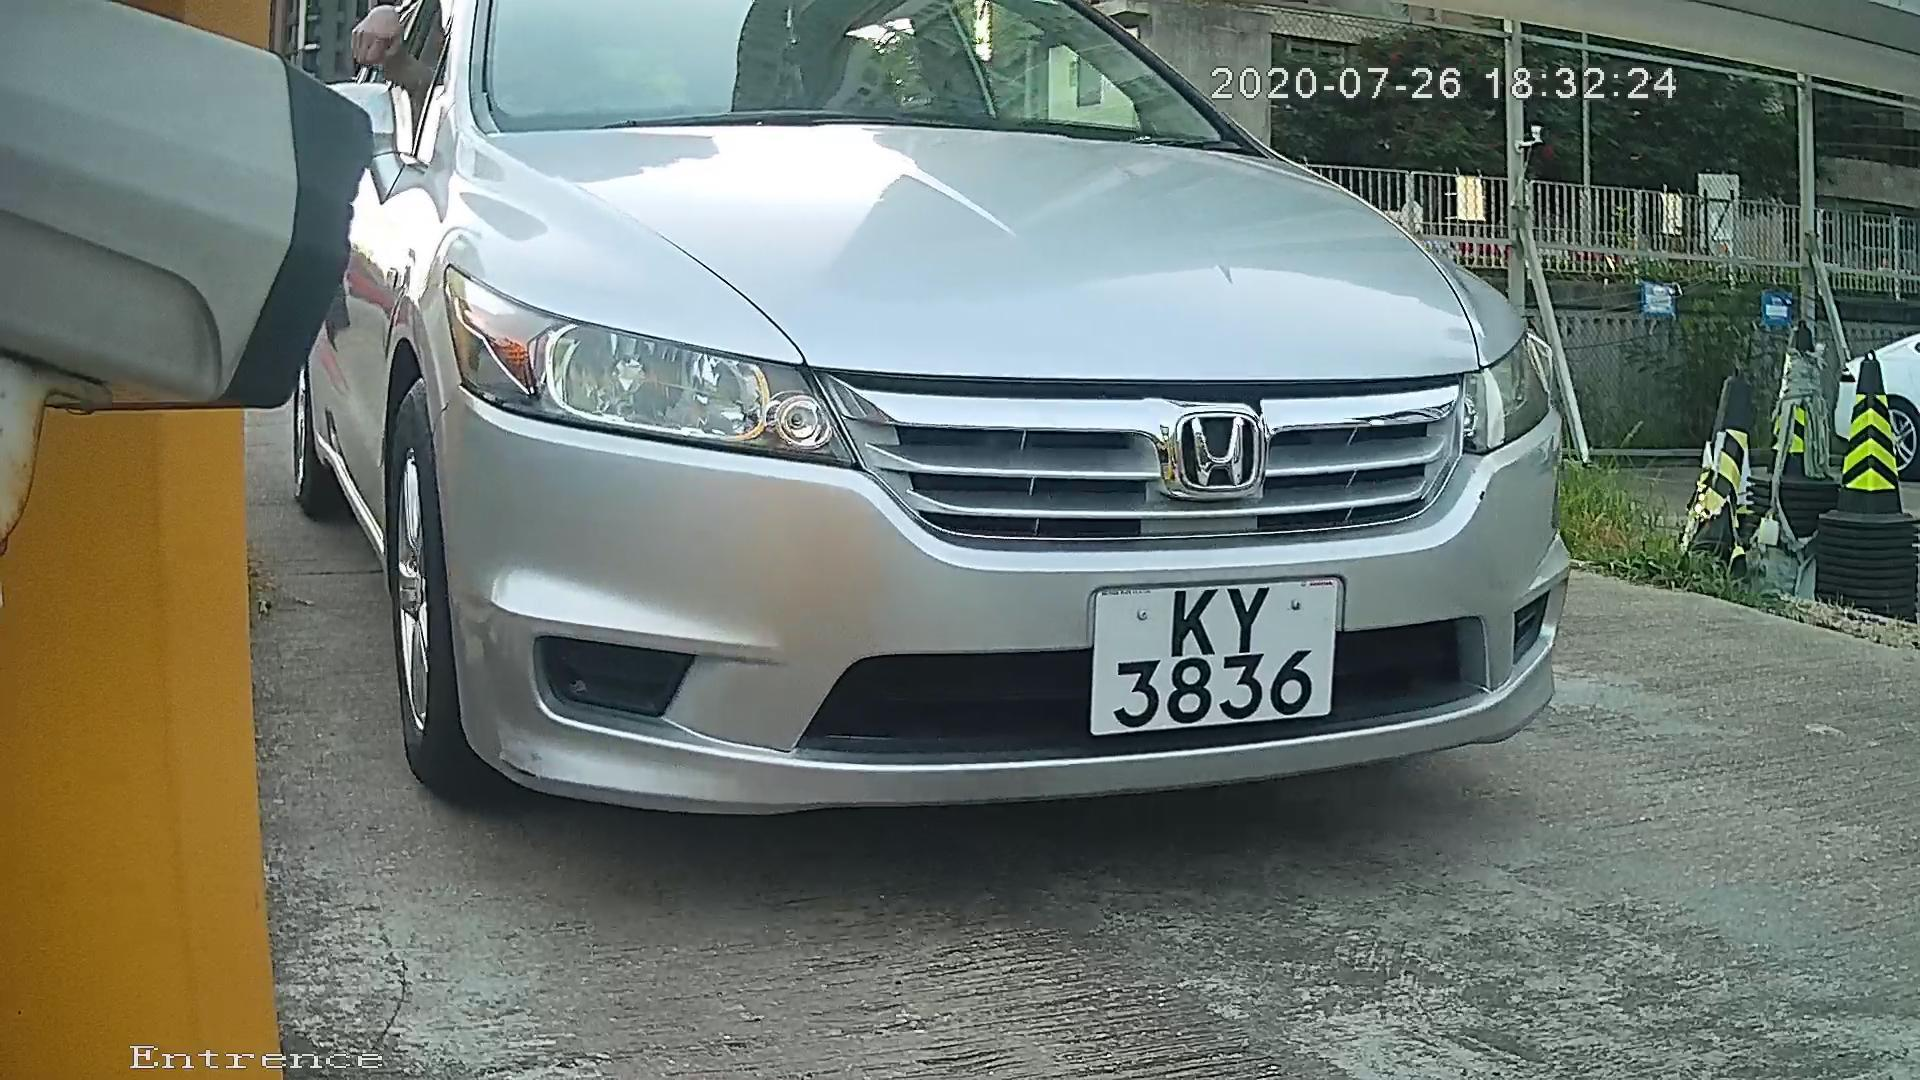License Plate: (1063, 560, 1355, 743)
